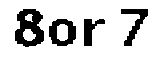7: (115, 5, 151, 53)
8: (10, 7, 48, 51)
o: (46, 17, 79, 50)
r: (85, 16, 109, 51)
